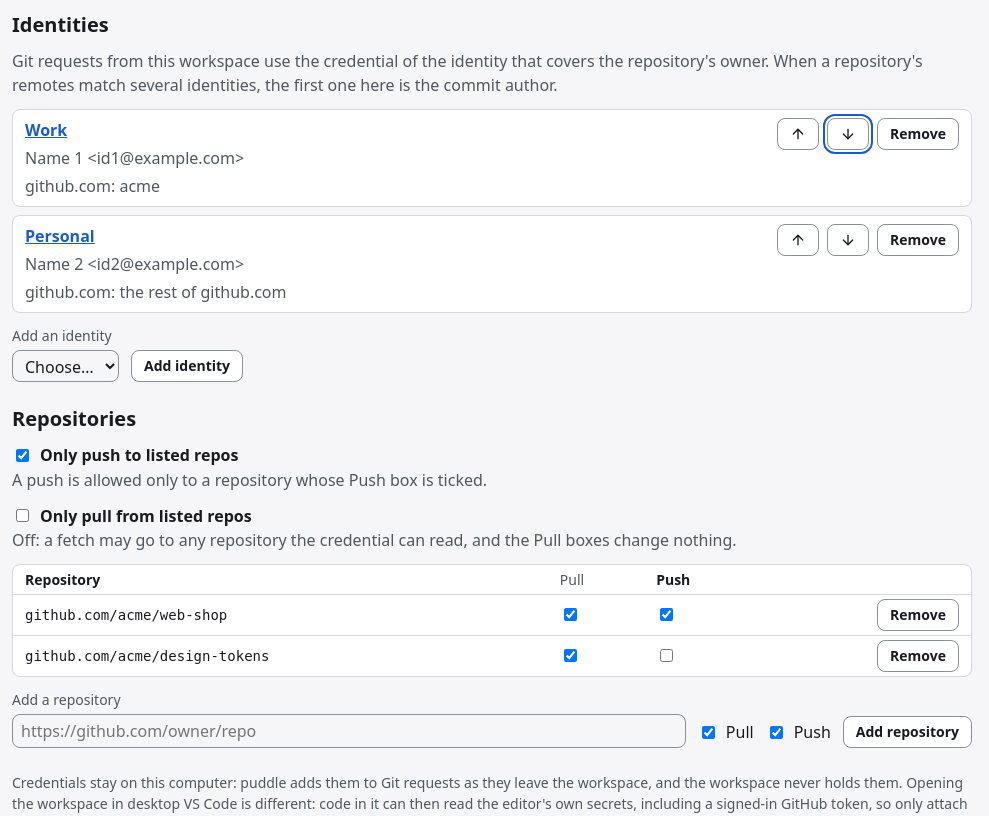
identities on a workspace › moves, removes and keeps focus on a button that still works
Expected: the heading "Identities" is shown, [12, 11, 109, 38]
Expected: the table is shown, [13, 565, 971, 676]
Click the button named "Move Work down" at (848, 134), box [827, 118, 869, 150]
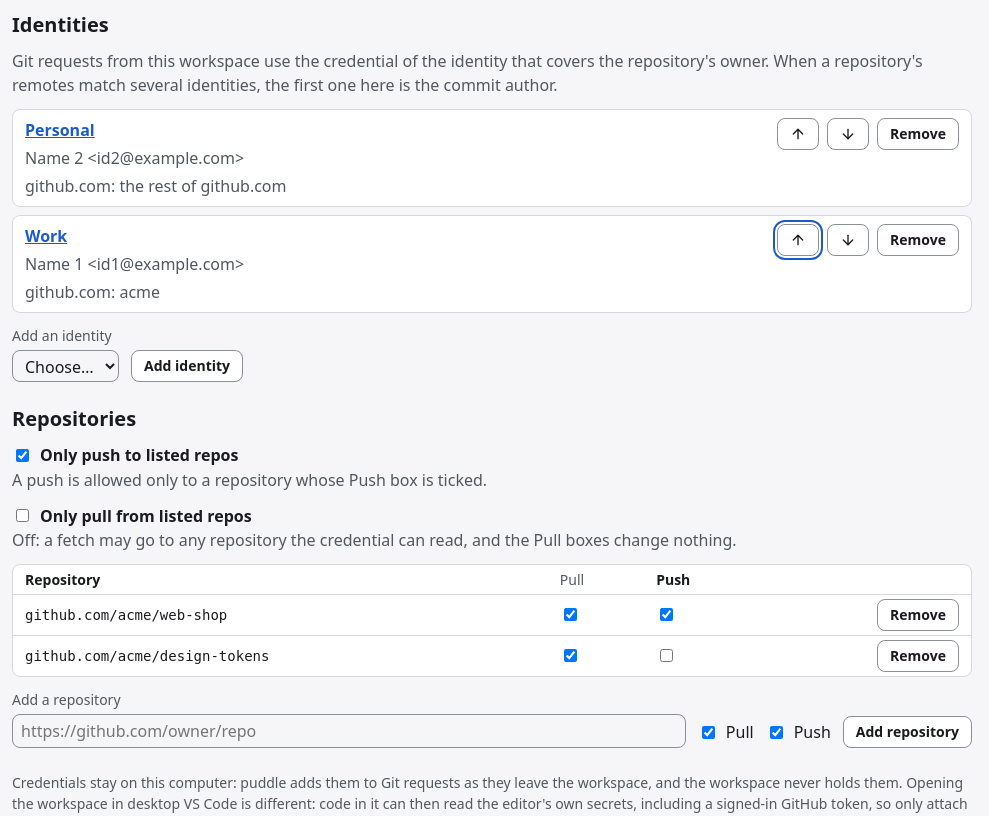
# Up again, from the second place.
Click the button named "Move Work up" at (798, 240), box [777, 224, 819, 256]
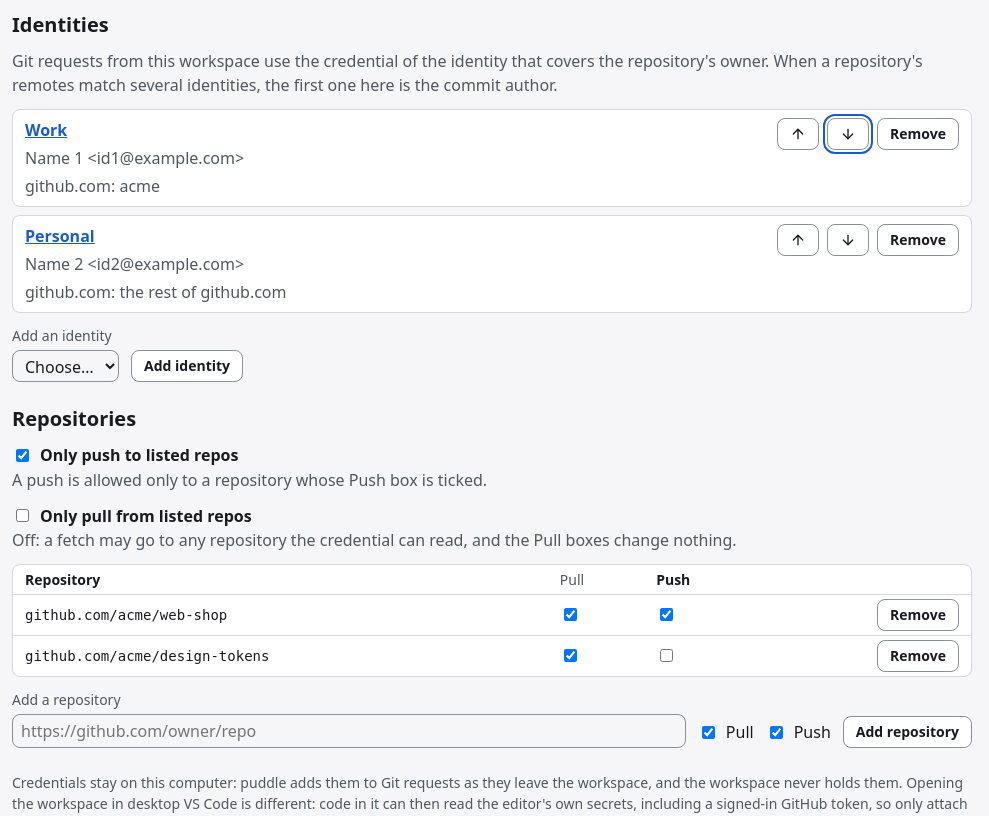
Click the button with aria-label "Remove Personal from web-shop" at (918, 240), box [877, 224, 959, 256]
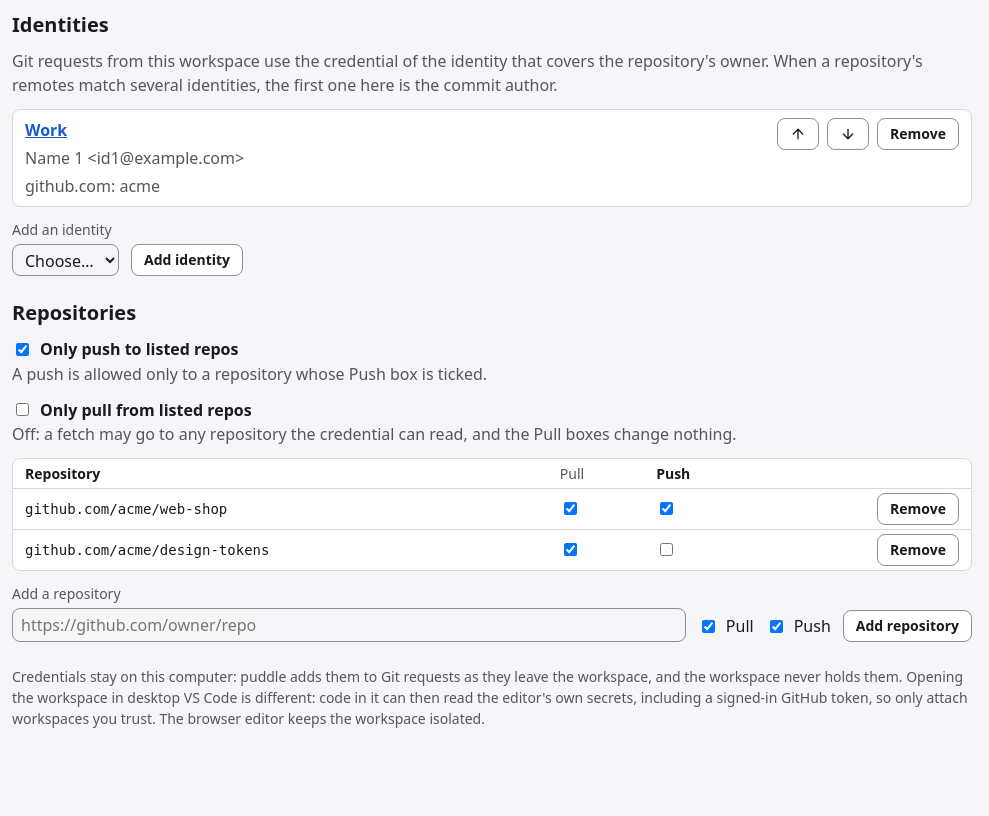
Now the number of list items is 1, box [12, 109, 972, 207]
